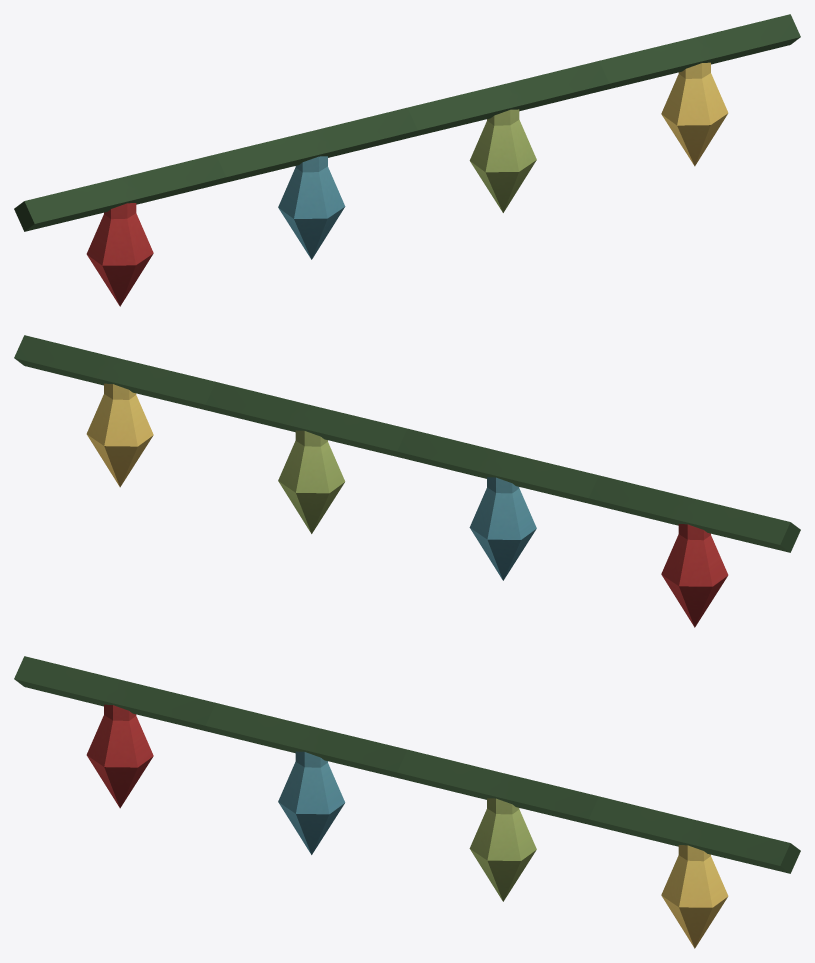
The model's file is Christmas_Light_Rope_Straight_Short.obj.
3 views of the same model, one above another, from view 1: azimuth 30°, elevation 25°; view 2: azimuth 150°, elevation 25°; view 3: azimuth 330°, elevation 25° (orthographic).
Parts seen in each view (by area): view 1: Christmas_Light_Rope_Straight_Short; view 2: Christmas_Light_Rope_Straight_Short; view 3: Christmas_Light_Rope_Straight_Short.
Part boxes in pixels (x1,y1,x2,y2): Christmas_Light_Rope_Straight_Short: (14,14,800,306); Christmas_Light_Rope_Straight_Short: (14,335,800,627); Christmas_Light_Rope_Straight_Short: (14,656,800,948).
Size of the model in its own units: 2.16 by 0.3486 by 0.1553.
